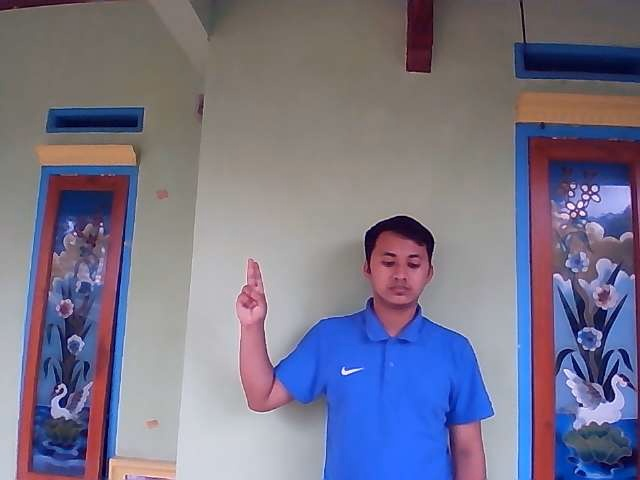U: (235, 257, 268, 325)
